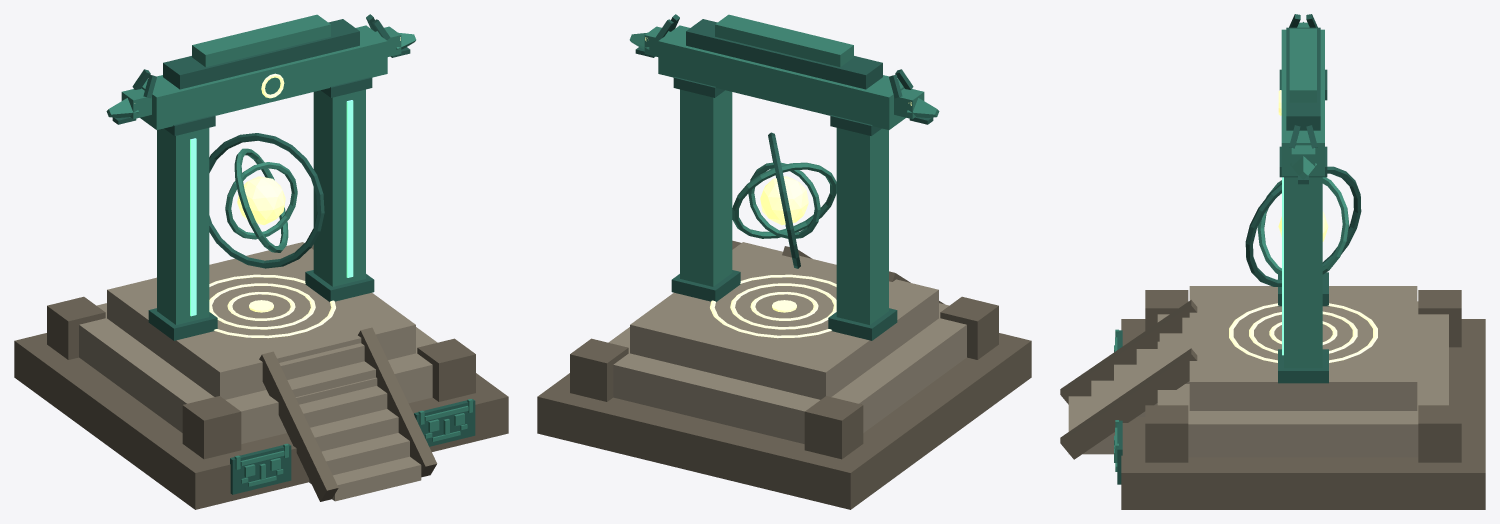
Rendered from beacon_shrine.glb.
3 views of the same model, side by side, from view 1: azimuth 30°, elevation 25°; view 2: azimuth 150°, elevation 25°; view 3: azimuth 270°, elevation 25° (orthographic).
Visible parts, largest first — view 1: Base, Arch, Ring3, FloorInlay, FacePlateL, FacePlateR, Core, Ring2, Ring1; view 2: Base, Arch, FloorInlay, Ring2, Core, Ring1, Ring3; view 3: Base, Arch, Ring3, FloorInlay, Ring2, FacePlateR.
Boxes of the visible parts, left/top/right/bottom form: Base: left=14, top=242, right=508, bottom=509; Arch: left=106, top=14, right=416, bottom=340; Ring3: left=209, top=133, right=324, bottom=268; FloorInlay: left=209, top=274, right=335, bottom=338; FacePlateL: left=230, top=443, right=291, bottom=494; FacePlateR: left=414, top=399, right=475, bottom=446; Core: left=237, top=176, right=285, bottom=225; Ring2: left=234, top=148, right=288, bottom=252; Ring1: left=225, top=162, right=297, bottom=239; Base: left=537, top=240, right=1031, bottom=509; Arch: left=629, top=14, right=939, bottom=340; FloorInlay: left=710, top=274, right=836, bottom=338; Ring2: left=732, top=162, right=836, bottom=238; Core: left=760, top=176, right=808, bottom=225; Ring1: left=748, top=162, right=820, bottom=238; Ring3: left=768, top=132, right=800, bottom=268; Base: left=1060, top=286, right=1485, bottom=509; Arch: left=1278, top=14, right=1328, bottom=383; Ring3: left=1245, top=166, right=1361, bottom=286; FloorInlay: left=1229, top=303, right=1377, bottom=362; Ring2: left=1257, top=177, right=1349, bottom=276; FacePlateR: left=1114, top=420, right=1122, bottom=484.
Size of the model in its own units: 8 by 9.05 by 9.34.
